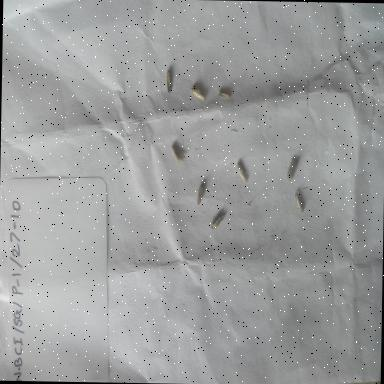pbw: (286, 154, 302, 183), (210, 208, 226, 231), (235, 161, 250, 185), (188, 84, 208, 102), (170, 144, 187, 165), (194, 180, 206, 208), (294, 191, 307, 215), (164, 68, 176, 94), (216, 88, 232, 103)
